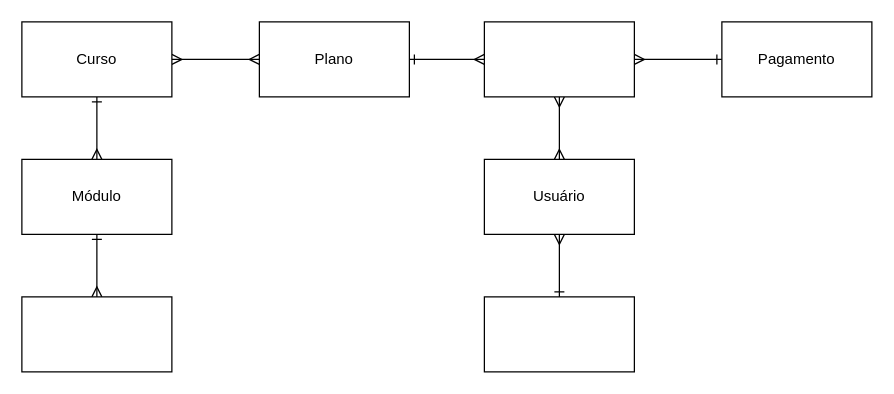
This 894x394 diagram has some shape labels left out. Each missing label, with the centre of its shape:
"Assinatura" belongs at [558,59].
"Aula" belongs at [96,334].
"Role" belongs at [558,334].
